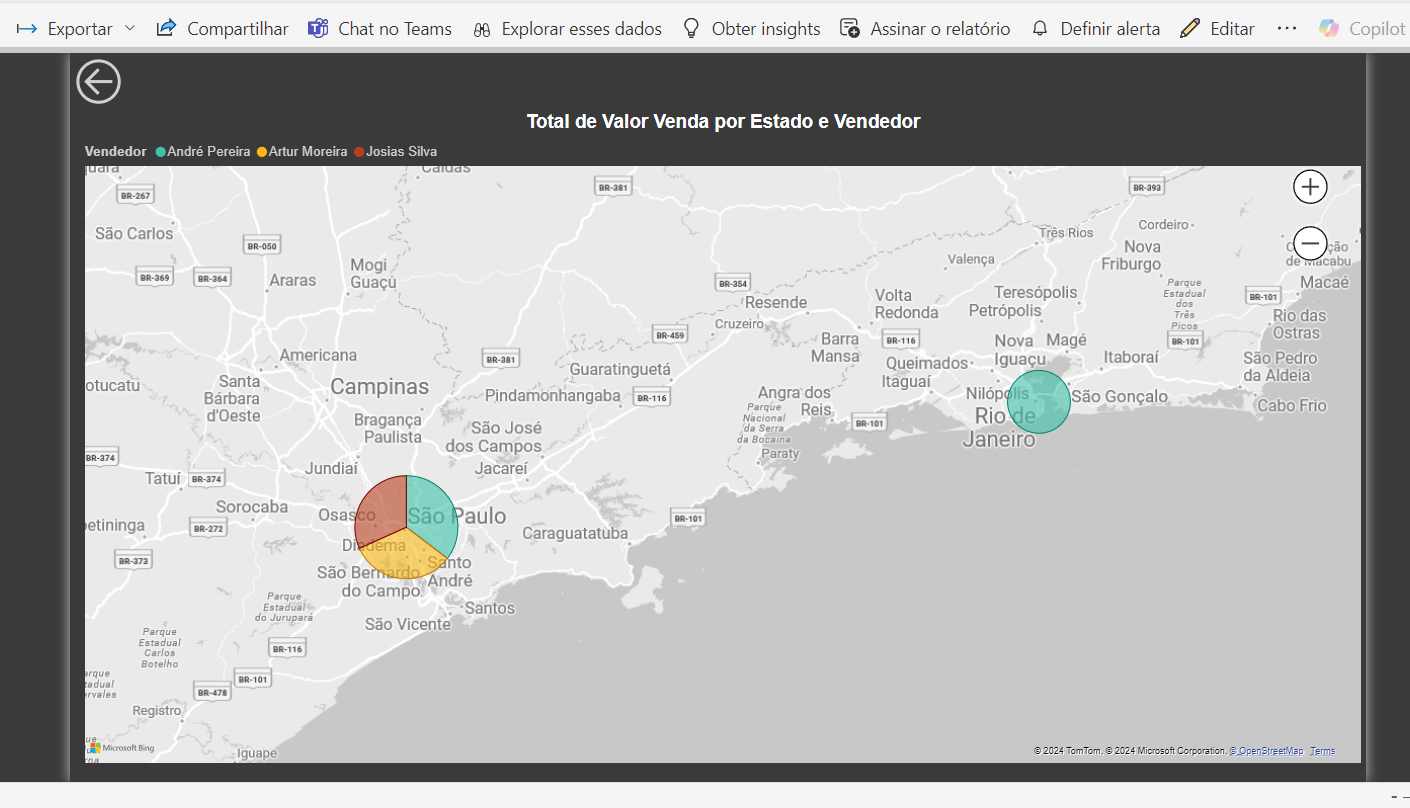

Layout of this report page (visuals, bound fields, positions):
{"tool":"powerbi","page":{"name":"Performance de Vendedores Por Região","canvas":[1280,720],"ordinal":4},"visuals":[{"type":"map","fields":{"Category":["Vendas.Estado"],"Size":["Sum(Vendas.ValorVenda)"],"Series":["Vendas.Vendedor"]},"box":[9.8,56.4,1269.9,649.1],"z":0},{"type":"actionButton","box":[0,0,99.4,56.4],"z":1000}]}

Visuals, with their boxes on the page's 1280x720 design canvas (x1, y1, x2, y2). These are canvas units, not pixel positions in the 1410x808 screenshot, which may show the page scaled, cropped or inside an application window:
map - Vendas.Estado x Sum(Vendas.ValorVenda): (10,56,1280,706)
actionButton: (0,0,99,56)
